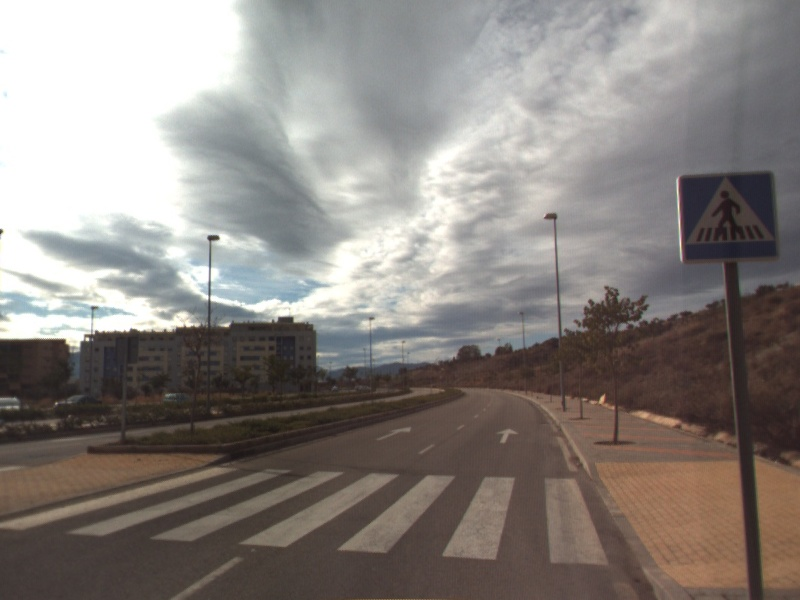STRAIGHT: (374, 424, 413, 442), (494, 426, 521, 445)
